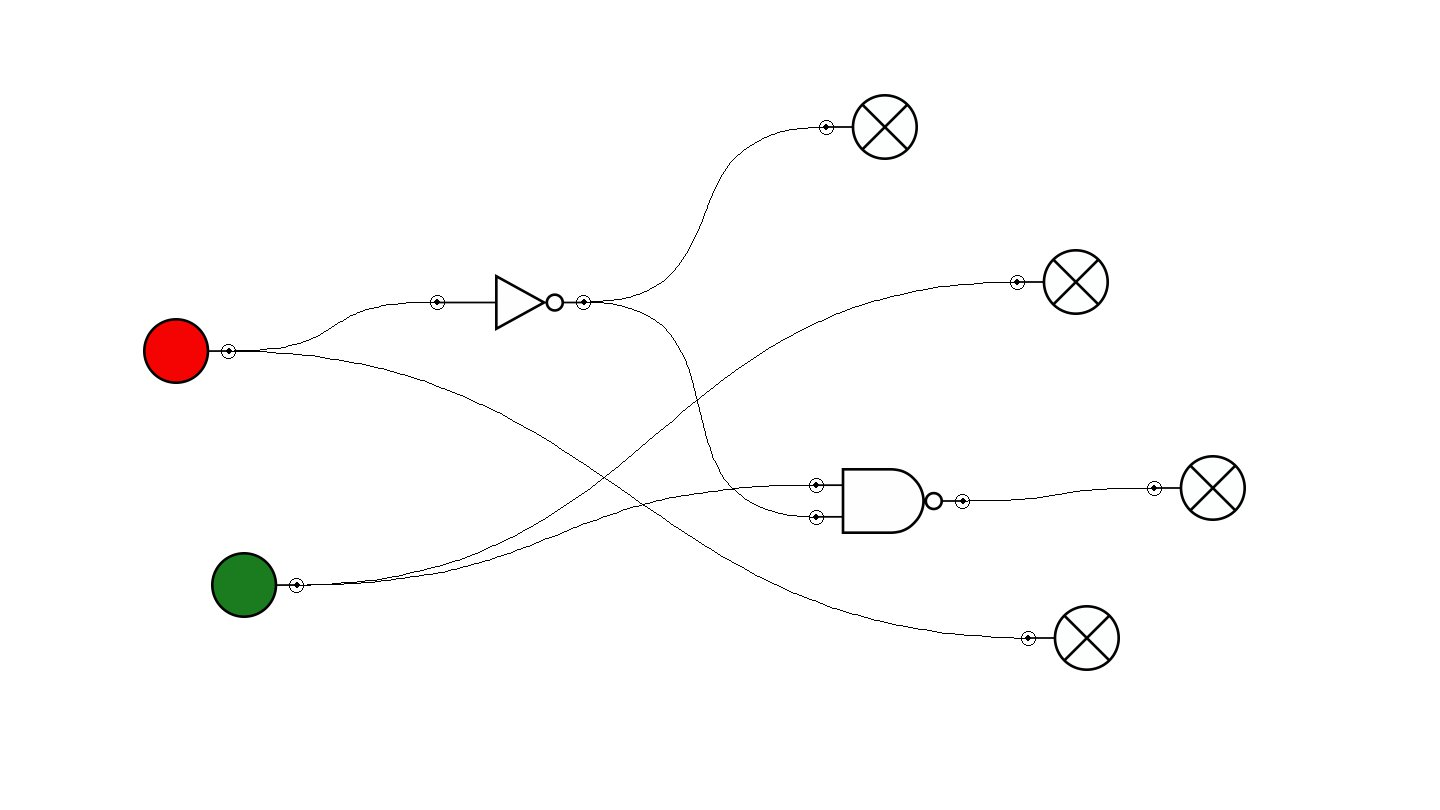bulb: (1010, 249, 1109, 315), (819, 94, 918, 160), (1021, 605, 1120, 671), (1147, 455, 1246, 521)
nand: (809, 468, 970, 534)
not: (430, 274, 591, 331)
switch_False: (143, 318, 236, 384)
switch_True: (211, 552, 304, 618)
